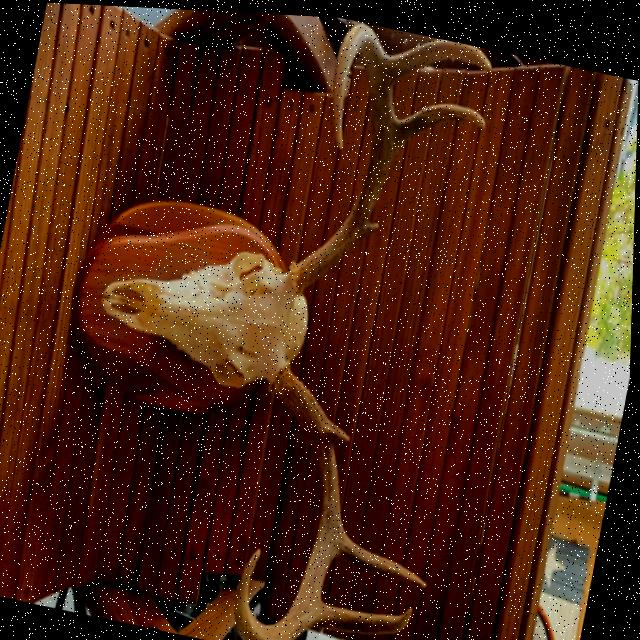L-F: (238, 358, 347, 640)
L-G1: (332, 415, 353, 439)
L-G2: (340, 525, 430, 583)
L-G3: (315, 595, 417, 631)
R-F: (291, 18, 400, 293)
R-G1: (361, 212, 381, 234)
R-G2: (398, 97, 486, 143)
R-G3: (387, 33, 492, 81)
